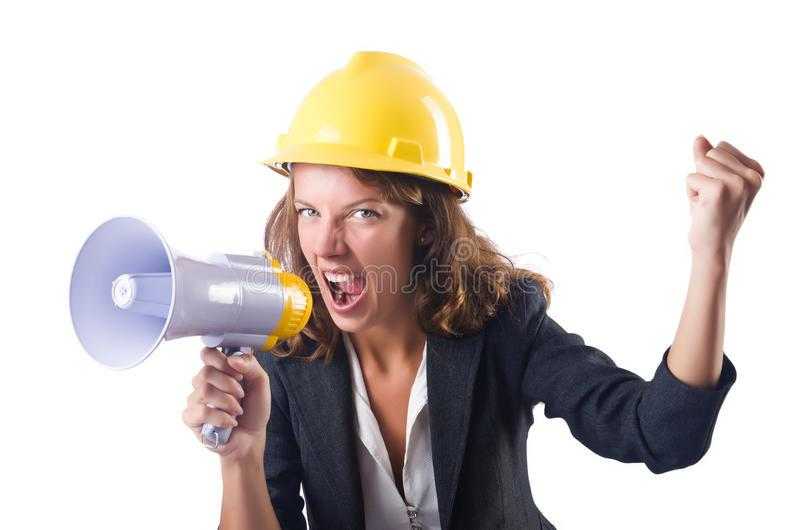helmet: (259, 50, 476, 203)
